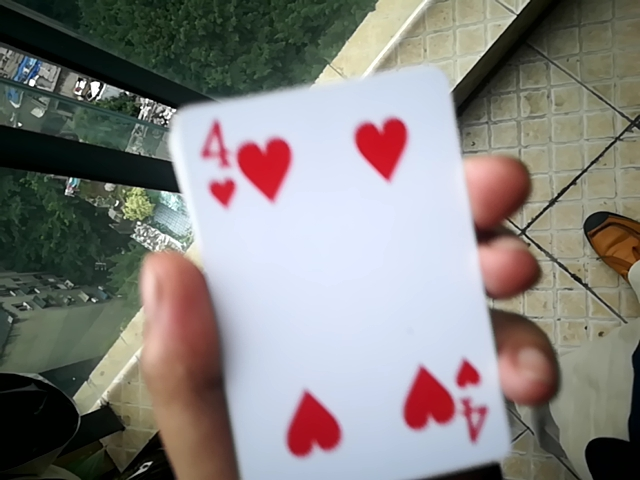hx 4: (142, 66, 505, 480)
